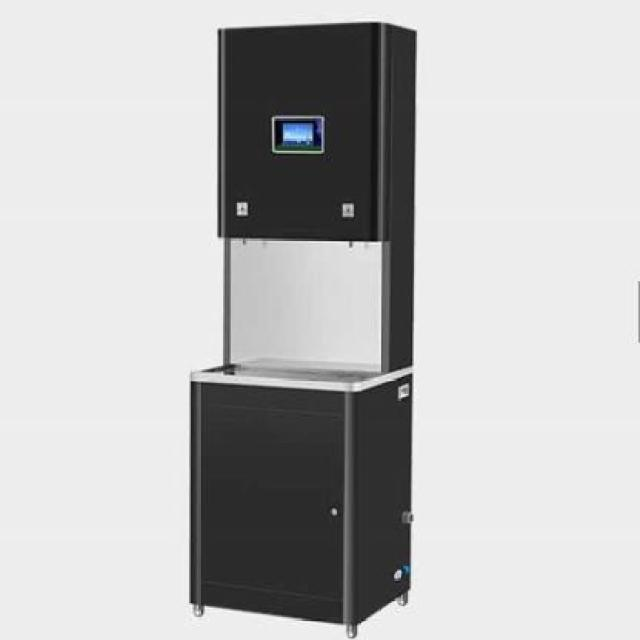cooler: (185, 14, 420, 639)
